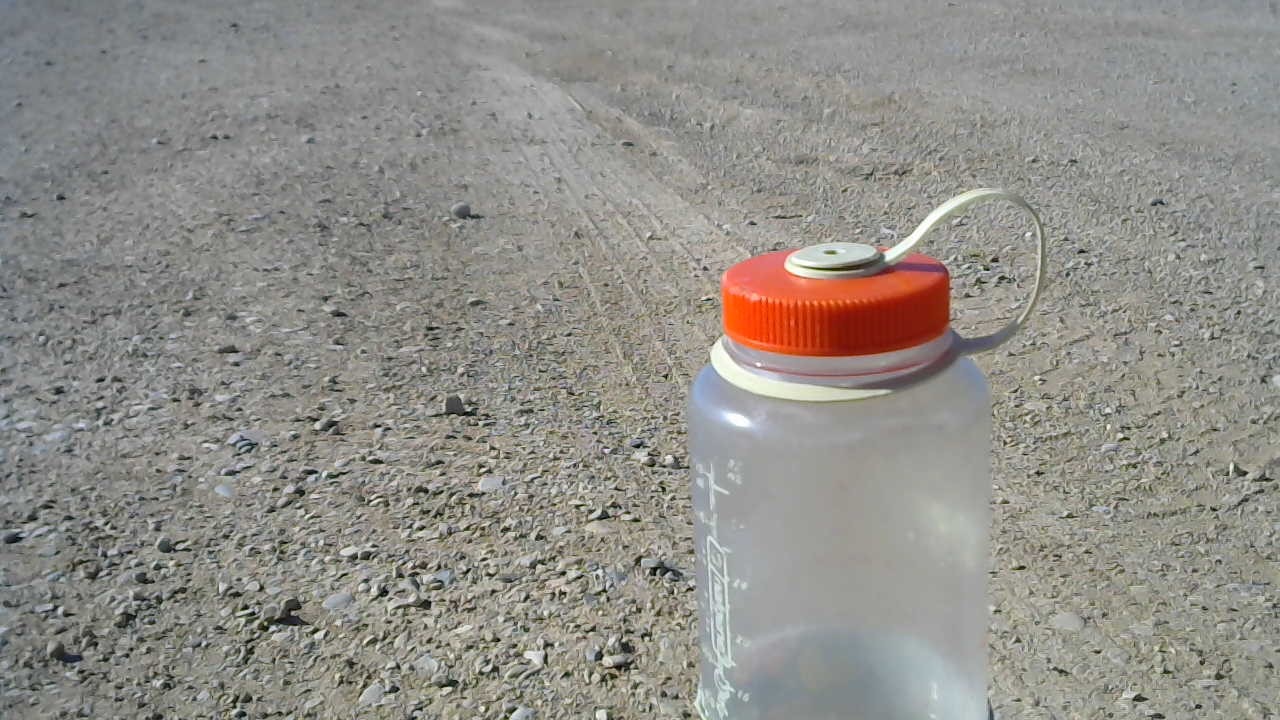bottle: (677, 184, 1055, 720)
